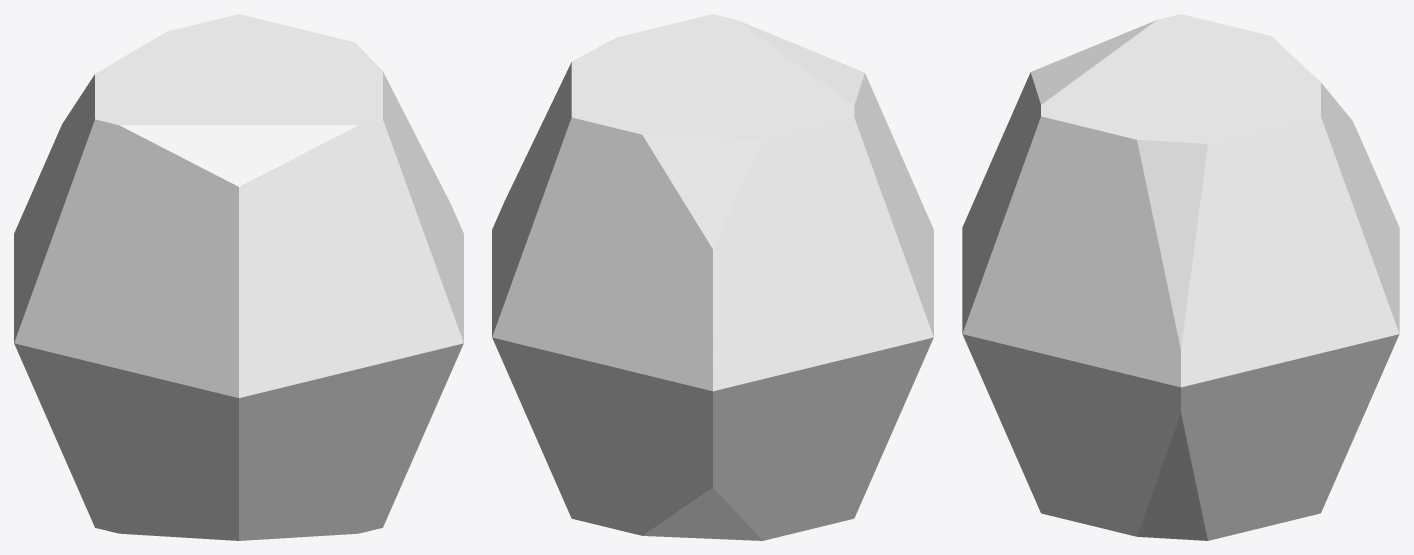
File: asteroid1.glb
The picture shows the model from 3 angles, left to right: view 1: azimuth 30°, elevation 25°; view 2: azimuth 150°, elevation 25°; view 3: azimuth 270°, elevation 25°; orthographic projection. The views are drawn at different scales.
Parts seen in each view (by area): view 1: mergedBlocks(Clone); view 2: mergedBlocks(Clone); view 3: mergedBlocks(Clone).
Part boxes in pixels (<box>): mergedBlocks(Clone): <box>14,14,463,540</box>; mergedBlocks(Clone): <box>492,14,933,540</box>; mergedBlocks(Clone): <box>962,14,1399,540</box>.
Bounding box in the file's own units: 0.4257 × 0.3695 × 0.3687.
Materials: 1 (1 with a texture image).
